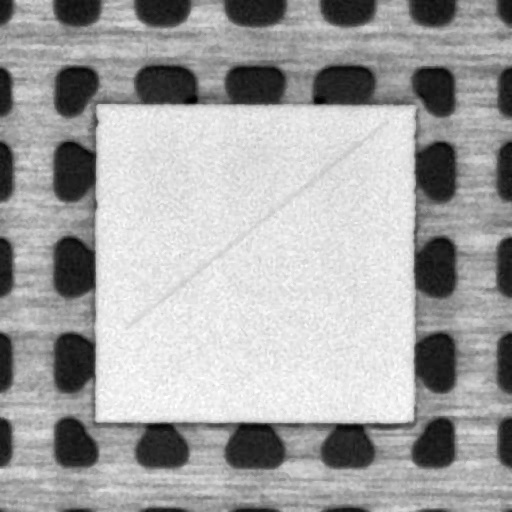DIE_CRACK: (124, 120, 385, 328)
